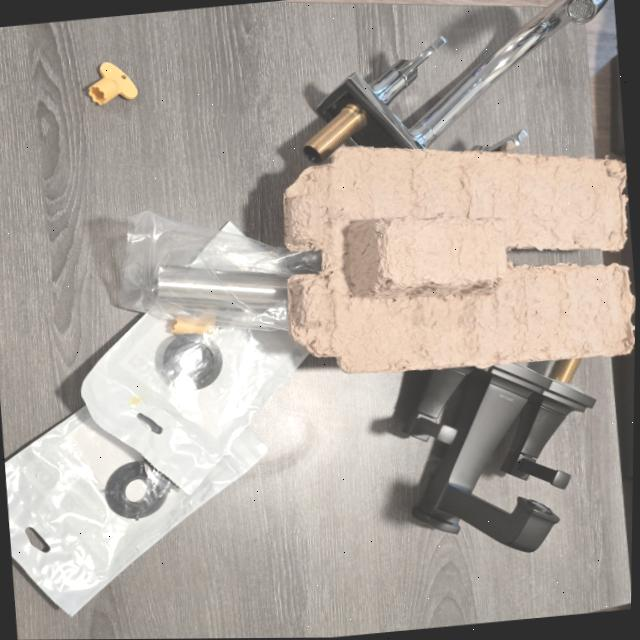10o: (303, 0, 608, 163)
11o: (119, 211, 321, 330)
12o: (81, 299, 307, 493)
13o: (4, 407, 266, 614)
14: (88, 62, 137, 104)
9o: (392, 358, 595, 551)
